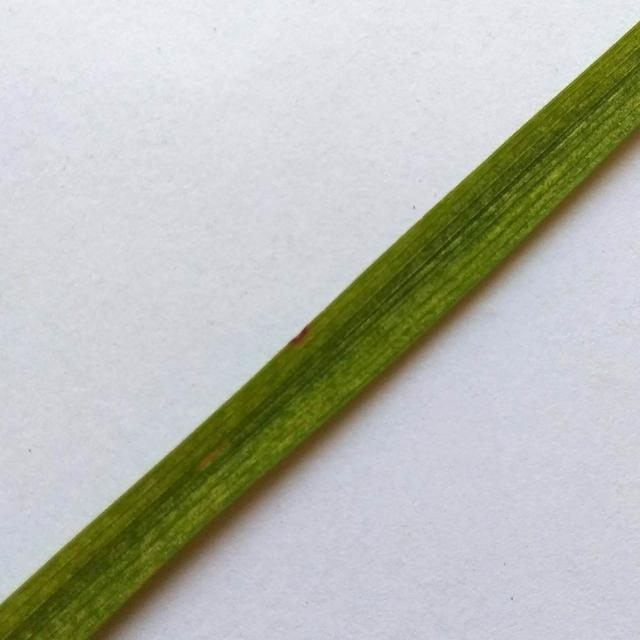brownspots: (278, 315, 314, 357)
